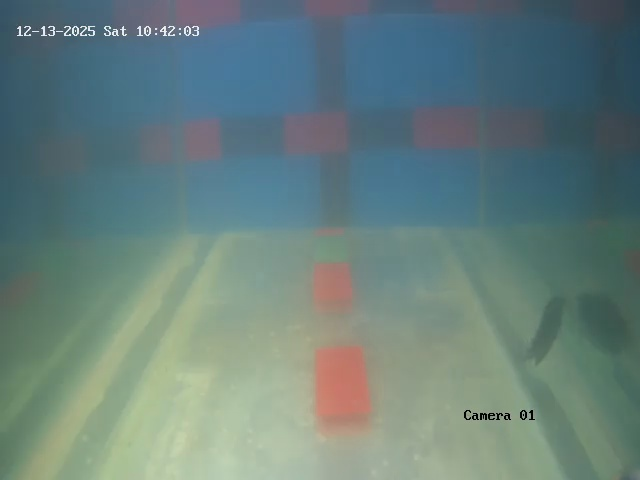fish: (524, 297, 578, 366)
